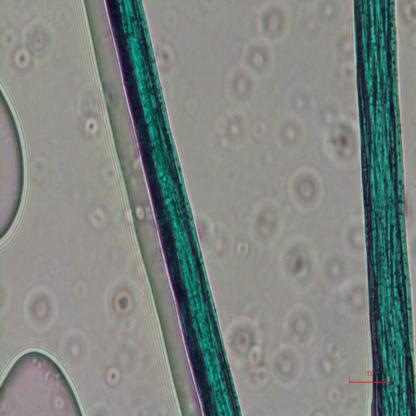Air bubble: (0, 344, 87, 416), (0, 81, 32, 244)
Background material: (230, 5, 287, 101), (228, 317, 272, 395), (318, 104, 359, 172), (279, 236, 322, 294), (316, 332, 350, 403), (196, 207, 236, 267), (12, 19, 56, 72), (287, 164, 329, 217), (76, 81, 112, 142), (21, 280, 60, 330), (283, 300, 322, 350), (252, 196, 287, 249), (106, 276, 140, 326), (271, 340, 306, 388), (57, 257, 93, 300), (58, 328, 92, 370), (207, 113, 244, 149), (298, 5, 334, 41), (324, 249, 351, 289), (337, 30, 356, 86), (332, 285, 366, 316), (277, 114, 306, 149), (347, 217, 370, 257), (34, 146, 54, 191), (228, 234, 257, 260), (156, 36, 178, 70), (102, 361, 126, 390), (86, 204, 110, 231), (250, 120, 272, 148), (180, 91, 202, 117), (0, 21, 21, 48), (401, 1, 416, 29), (42, 258, 62, 278), (164, 12, 181, 31)
Microfibre: (106, 0, 243, 414), (356, 1, 414, 415)
